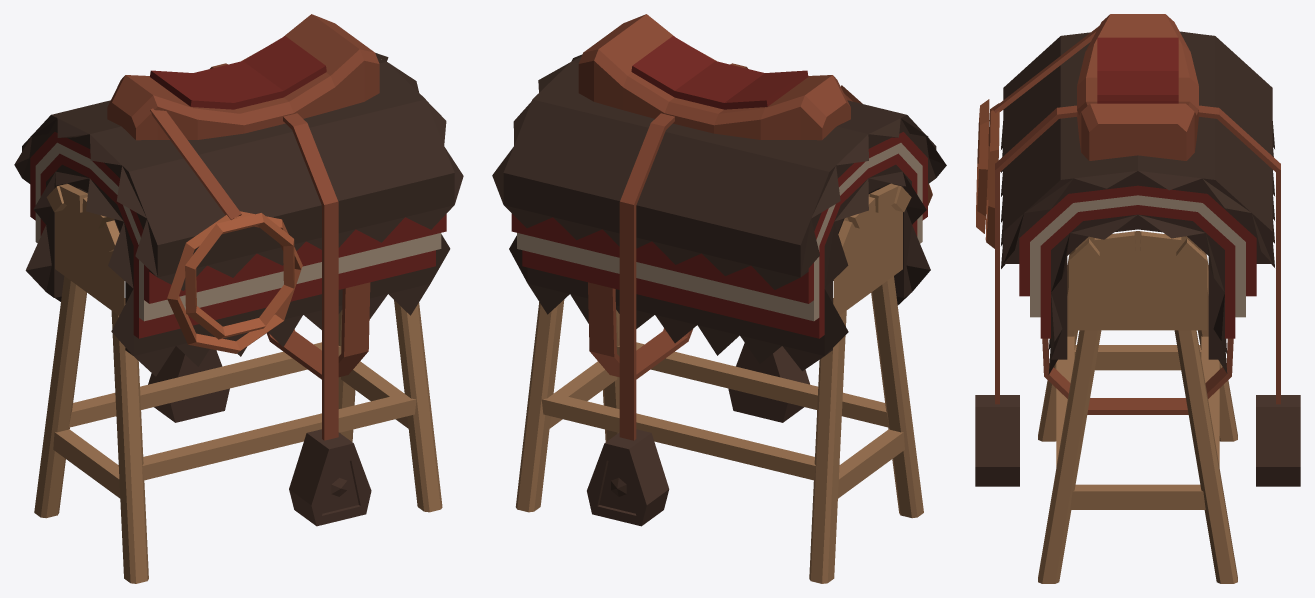
Rendered from montura-on-a-saddle-22b974.glb.
The picture shows the model from 3 angles, left to right: view 1: azimuth 30°, elevation 25°; view 2: azimuth 150°, elevation 25°; view 3: azimuth 270°, elevation 25°; orthographic projection.
Parts seen in each view (by area): view 1: stand-and-montura, stirrup-l-mesh, lasso-mesh, cinch-mesh, stirrup-r-mesh; view 2: stand-and-montura, stirrup-r-mesh, cinch-mesh, stirrup-l-mesh; view 3: stand-and-montura, stirrup-r-mesh, stirrup-l-mesh, lasso-mesh, cinch-mesh.
Part boxes in pixels (left/top/right/bottom): stand-and-montura: left=14, top=14, right=463, bottom=583; stirrup-l-mesh: left=289, top=201, right=371, bottom=526; lasso-mesh: left=150, top=108, right=302, bottom=353; cinch-mesh: left=266, top=282, right=370, bottom=379; stirrup-r-mesh: left=148, top=346, right=229, bottom=422; stand-and-montura: left=492, top=14, right=946, bottom=583; stirrup-r-mesh: left=587, top=201, right=669, bottom=526; cinch-mesh: left=588, top=282, right=692, bottom=379; stirrup-l-mesh: left=728, top=343, right=809, bottom=422; stand-and-montura: left=995, top=14, right=1280, bottom=583; stirrup-r-mesh: left=1256, top=170, right=1300, bottom=486; stirrup-l-mesh: left=975, top=170, right=1019, bottom=486; lasso-mesh: left=976, top=26, right=1098, bottom=248; cinch-mesh: left=1042, top=338, right=1233, bottom=414.
Size of the model in its own units: 0.9641 by 1.23 by 0.802.
